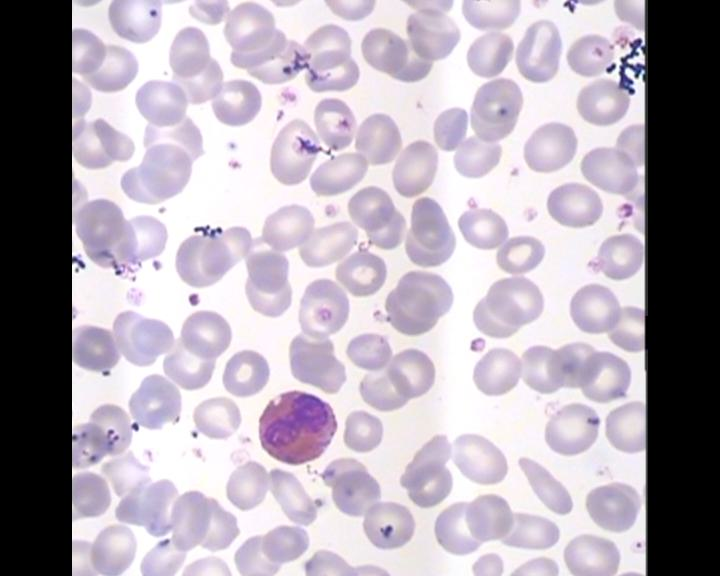eosi: (249, 383, 340, 467)
